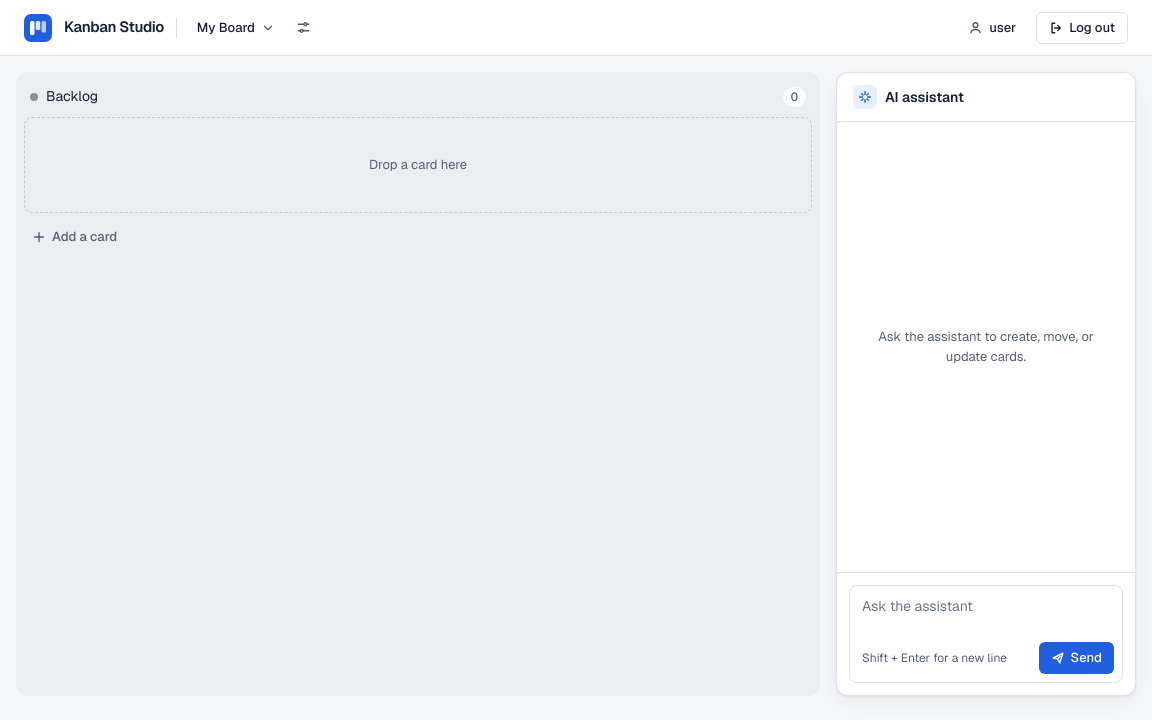
Test case: Account settings › saves the display name and shows it in the header
This screenshot has width=1152, height=720.
Click the button with aria-label "Account settings" at (992, 28), box [960,12,1024,44]
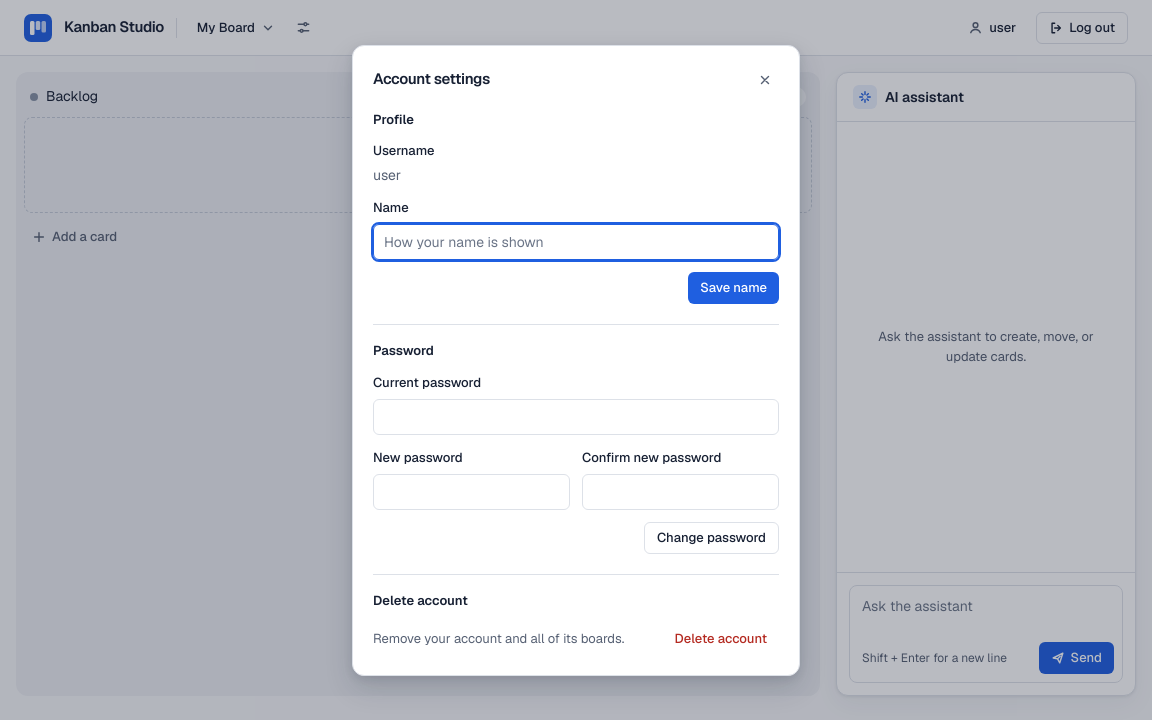
Expected: the text "user" is shown, [373,166,401,184]
Type "Demo Person" into the field labelled "Name" at (576, 242), box [373,224,779,260]
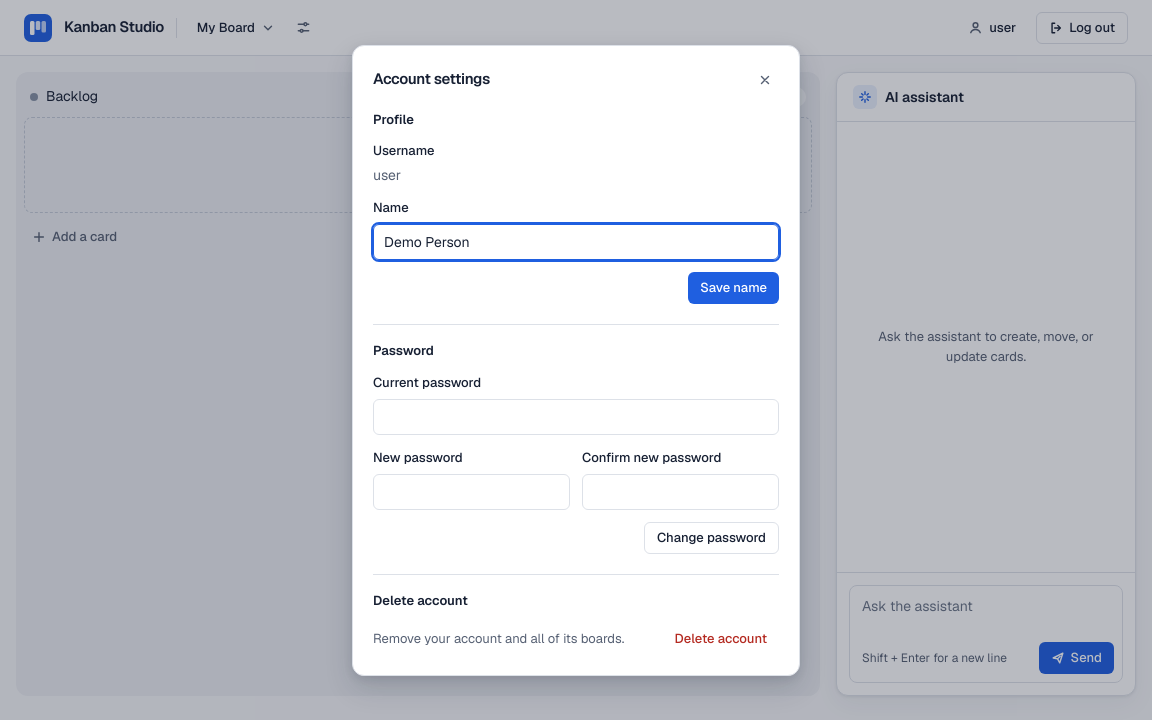
Click the button "Save name" at (734, 288), box [688,272,779,304]
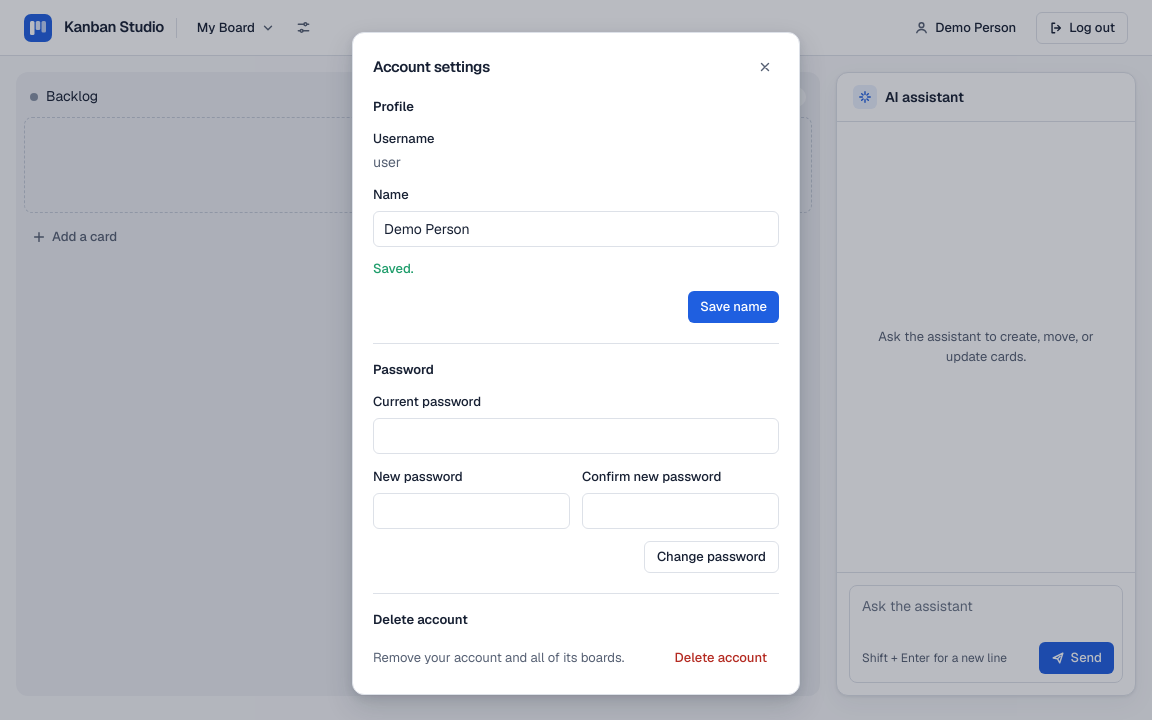
Expected: the text "Saved." is shown, [373,260,414,277]
Expected: the button with aria-label "Account settings" reads "Demo Person", [906,12,1024,44]
